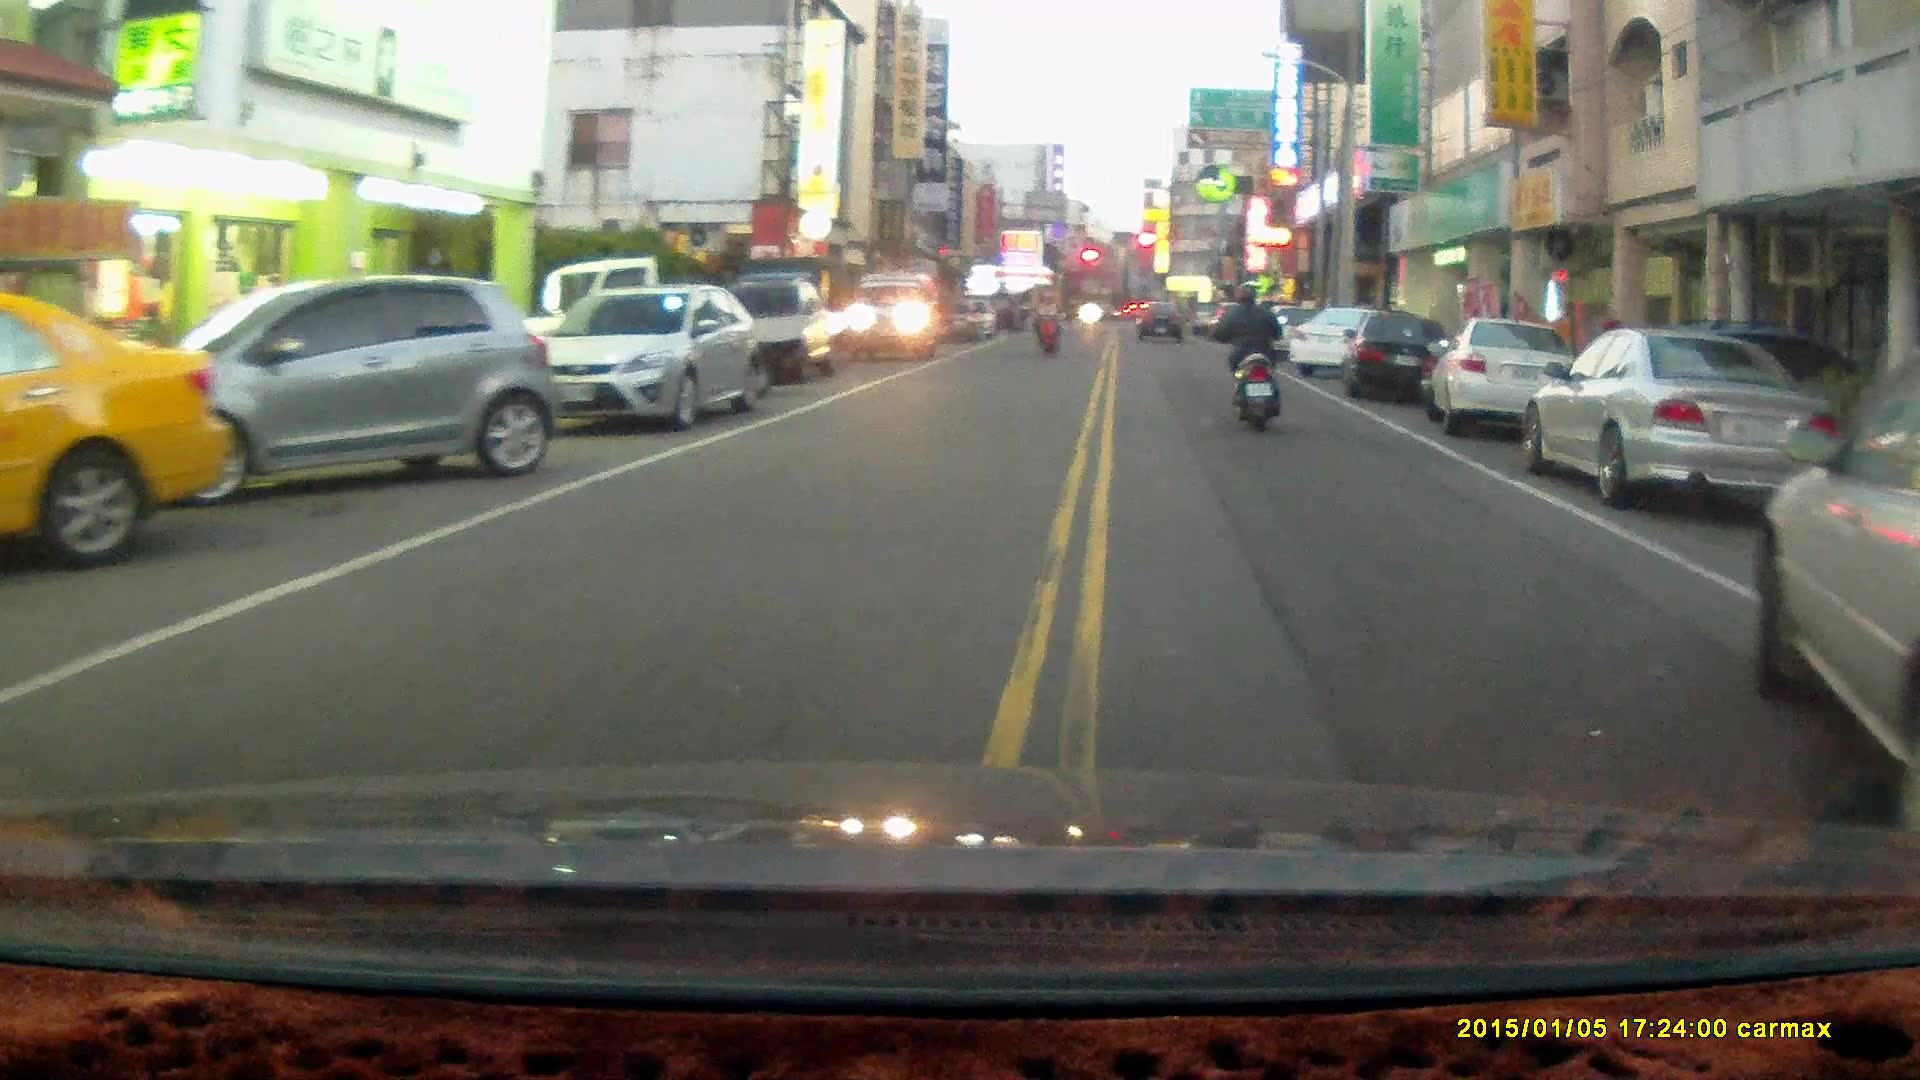rider: (1208, 282, 1283, 434), (1030, 286, 1060, 359)
vehicle: (117, 275, 546, 506), (1752, 355, 1920, 826), (1, 291, 226, 580), (1516, 324, 1841, 514), (534, 282, 771, 434), (1423, 317, 1569, 436), (712, 275, 856, 383), (844, 269, 939, 362)
